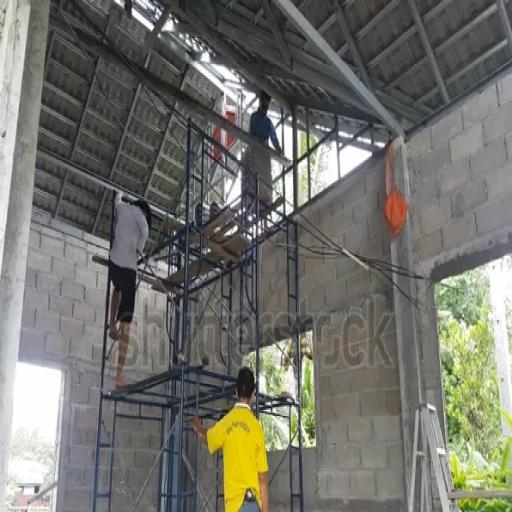Helmet-Detection: (234, 371, 260, 400), (259, 91, 274, 116), (138, 200, 154, 223)
